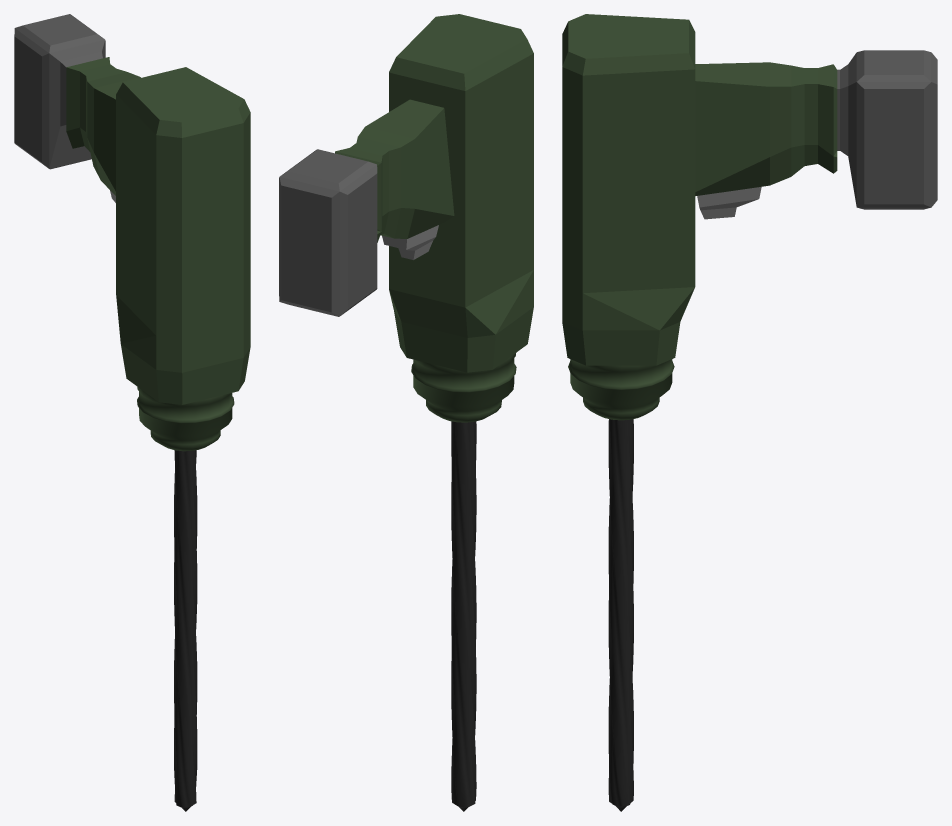
The model's file is 3D_ENVHandDrill_001.FBX.
3 renders of one model, left to right at view 1: azimuth 30°, elevation 25°; view 2: azimuth 150°, elevation 25°; view 3: azimuth 270°, elevation 25°, orthographic. The views are drawn at different scales.
Parts seen in each view (by area): view 1: 3D_ENVHandDrill_001; view 2: 3D_ENVHandDrill_001; view 3: 3D_ENVHandDrill_001.
Part boxes in pixels (x1,y1,x2,y2): 3D_ENVHandDrill_001: [14, 14, 250, 811]; 3D_ENVHandDrill_001: [279, 14, 533, 811]; 3D_ENVHandDrill_001: [562, 14, 937, 811].
Bounding box in the file's own units: 75.42 × 546 × 240.
